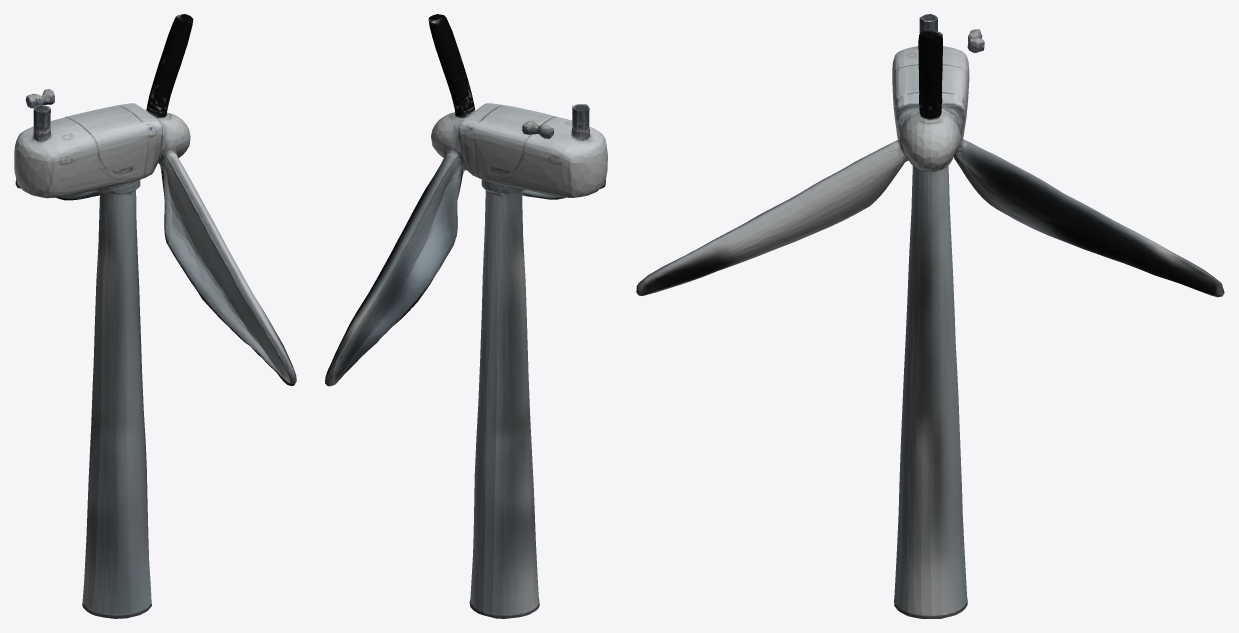
File: wind_turbine.glb
3 views of the same model, side by side, from view 1: azimuth 30°, elevation 25°; view 2: azimuth 150°, elevation 25°; view 3: azimuth 270°, elevation 25° (orthographic). The views are drawn at different scales.
Parts seen in each view (by area): view 1: world; view 2: world; view 3: world.
Boxes of the visible parts, <box> form: world: <box>14,14,296,618</box>; world: <box>325,14,607,618</box>; world: <box>636,14,1224,618</box>.
Size of the model in its own units: 0.2218 by 0.7005 by 0.6168.
Materials: 1 (1 with a texture image).
